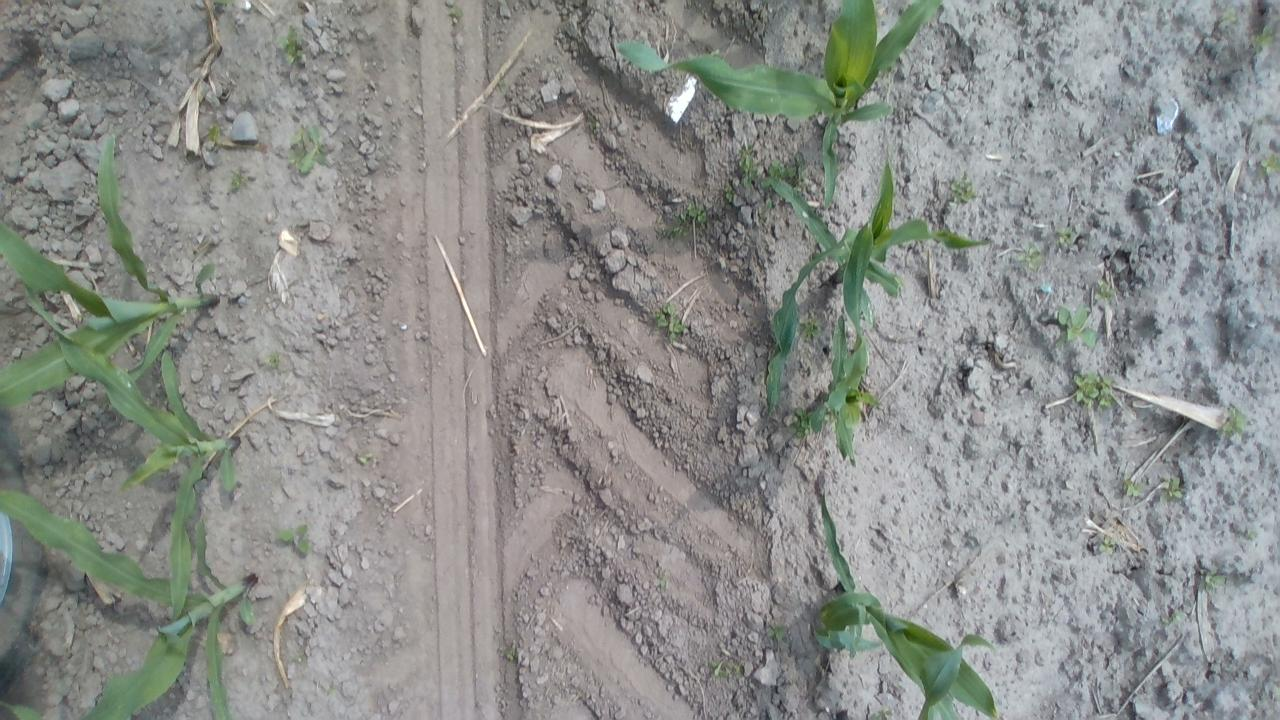Maize: (18, 275, 246, 626), (613, 0, 954, 211), (0, 124, 222, 412), (0, 487, 264, 720), (760, 168, 996, 426), (810, 493, 1017, 720), (818, 312, 886, 472), (914, 631, 1000, 720)
Weeds: (1049, 298, 1104, 353), (282, 125, 336, 177), (1067, 368, 1129, 413), (761, 154, 808, 212), (268, 18, 314, 67), (662, 199, 711, 240), (943, 168, 984, 210), (652, 301, 689, 345), (280, 522, 317, 558), (1008, 240, 1051, 270), (734, 144, 762, 190), (1216, 402, 1248, 440), (1247, 20, 1278, 56), (204, 117, 233, 154), (787, 402, 816, 438), (704, 656, 745, 681), (799, 309, 825, 347), (1159, 474, 1187, 507), (1092, 276, 1120, 308), (228, 165, 256, 197), (1053, 221, 1080, 254), (865, 703, 914, 720), (1255, 150, 1280, 182), (1200, 568, 1228, 596), (1120, 474, 1146, 503), (498, 640, 522, 670), (258, 349, 290, 371), (764, 622, 791, 648), (1158, 605, 1185, 630), (1097, 532, 1122, 558), (441, 1, 468, 22), (719, 179, 740, 205), (354, 448, 380, 469), (1219, 5, 1240, 29), (654, 572, 676, 593), (497, 74, 512, 99), (588, 119, 604, 142), (1240, 523, 1259, 540), (1269, 682, 1280, 704)
